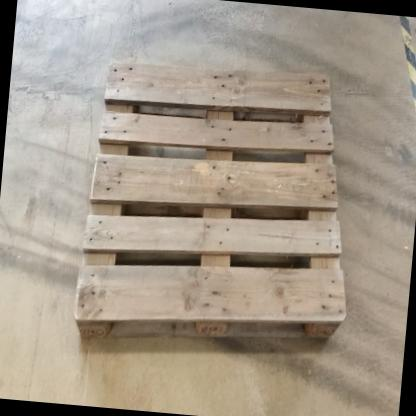BoxFace: (70, 56, 350, 349)
